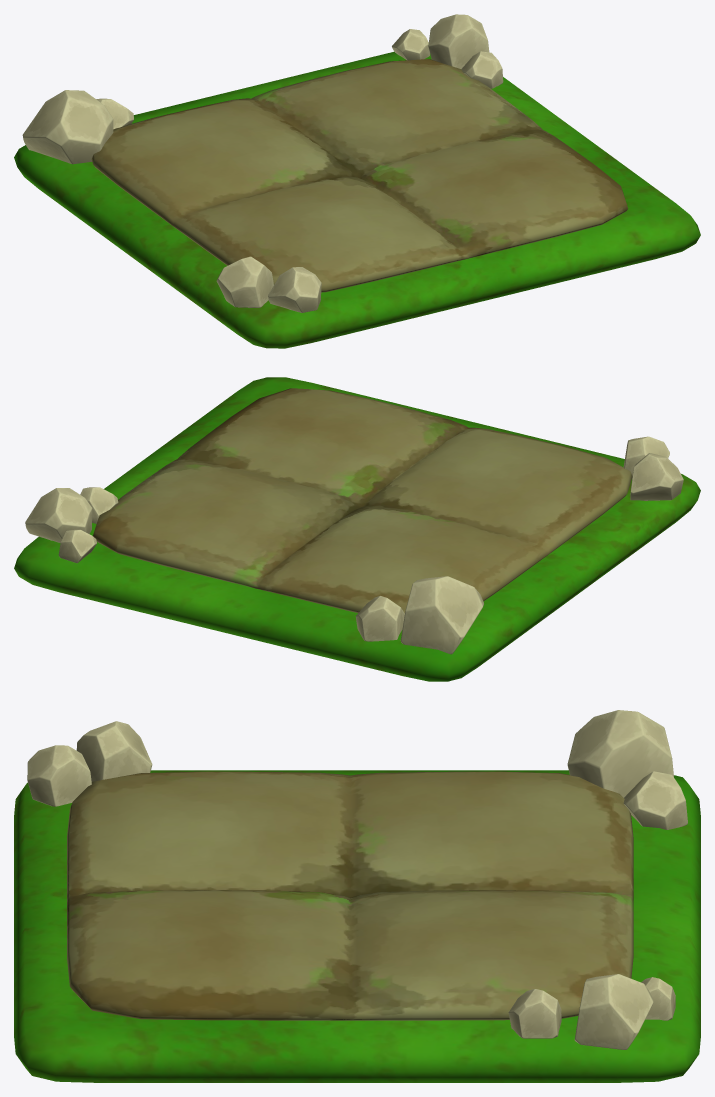
The model's file is gardenPlot1.glb.
The picture shows the model from 3 angles, top to bottom: view 1: azimuth 30°, elevation 25°; view 2: azimuth 150°, elevation 25°; view 3: azimuth 270°, elevation 25°; orthographic projection. The views are drawn at different scales.
Visible parts, largest first — view 1: Plane.032, Plane.034, Sphere.063, Sphere.036, Sphere.003, Sphere.035, Sphere.047, Sphere.052, Sphere.002; view 2: Plane.032, Plane.034, Sphere.063, Sphere.036, Sphere.003, Sphere.002, Sphere.052, Sphere.035, Sphere.047; view 3: Plane.032, Plane.034, Sphere.063, Sphere.036, Sphere.003, Sphere.035, Sphere.002, Sphere.047, Sphere.052.
Part boxes in pixels (x1,y1,x2,y2): Plane.032: (91, 59, 628, 292); Plane.034: (14, 51, 700, 348); Sphere.063: (22, 90, 113, 164); Sphere.036: (428, 14, 489, 68); Sphere.003: (216, 256, 273, 307); Sphere.035: (268, 267, 321, 312); Sphere.047: (461, 51, 503, 88); Sphere.052: (392, 29, 429, 60); Sphere.002: (96, 98, 133, 129); Plane.032: (93, 388, 632, 613); Plane.034: (14, 377, 700, 681); Sphere.063: (400, 576, 483, 654); Sphere.036: (25, 488, 92, 542); Sphere.003: (630, 453, 683, 500); Sphere.002: (355, 596, 404, 641); Sphere.052: (58, 529, 96, 563); Sphere.035: (623, 436, 669, 478); Sphere.047: (80, 487, 118, 523); Plane.032: (67, 771, 633, 1020); Plane.034: (14, 770, 700, 1082); Sphere.063: (567, 710, 673, 797); Sphere.036: (574, 974, 653, 1049); Sphere.003: (76, 721, 152, 781); Sphere.035: (27, 745, 91, 806); Sphere.002: (623, 771, 687, 829); Sphere.047: (508, 989, 561, 1038); Sphere.052: (641, 977, 675, 1020).
Size of the model in its own units: 8.46 by 1.62 by 8.42.
1 material, 1 textured.
